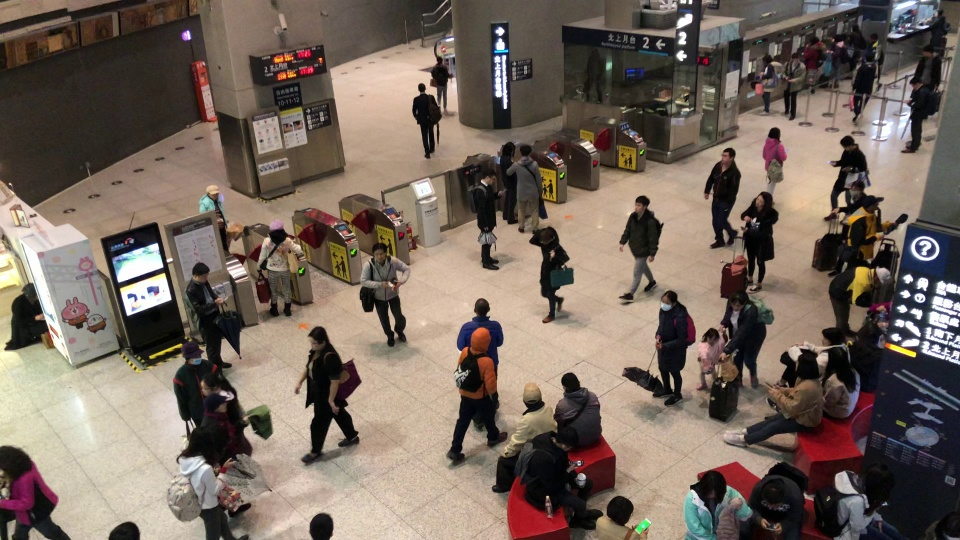person_head: (864, 463, 895, 501), (0, 445, 30, 476), (606, 494, 634, 524), (188, 426, 212, 459), (307, 511, 334, 540), (180, 336, 205, 366), (795, 353, 821, 380), (307, 325, 330, 354), (761, 480, 784, 508), (107, 521, 140, 540), (554, 426, 579, 451), (469, 326, 491, 353), (702, 472, 724, 498), (521, 381, 542, 408), (201, 374, 228, 394), (820, 326, 844, 347), (829, 349, 849, 373), (560, 371, 581, 391), (204, 394, 227, 412), (472, 297, 492, 317), (191, 261, 210, 282), (268, 217, 287, 238), (659, 290, 678, 311), (942, 517, 959, 540), (728, 291, 748, 310), (633, 194, 652, 213), (863, 194, 883, 212), (371, 242, 388, 263), (874, 266, 892, 285), (755, 191, 774, 208), (22, 282, 38, 302), (848, 180, 865, 198), (480, 167, 496, 186), (539, 227, 554, 246), (501, 140, 516, 158), (839, 135, 855, 151), (205, 183, 220, 200), (720, 148, 737, 163), (908, 75, 924, 90), (705, 327, 719, 341), (921, 43, 934, 57), (520, 143, 532, 157), (767, 127, 781, 139), (868, 32, 879, 44), (762, 54, 773, 65), (864, 51, 874, 63), (791, 52, 801, 63), (417, 82, 426, 94), (809, 35, 819, 45), (934, 8, 944, 18), (832, 34, 842, 43), (436, 55, 445, 64), (851, 23, 859, 33)
person_vbox: (720, 352, 824, 447), (513, 425, 605, 532), (165, 425, 249, 540), (292, 325, 360, 466), (443, 326, 508, 463), (490, 381, 558, 494), (812, 463, 904, 539), (764, 348, 862, 419), (198, 394, 254, 518), (0, 445, 72, 540), (455, 297, 504, 430), (172, 335, 239, 427), (716, 290, 776, 390), (359, 242, 411, 348), (184, 261, 232, 373), (254, 215, 306, 318), (652, 290, 697, 406), (617, 194, 664, 304), (682, 470, 753, 540), (748, 461, 809, 540), (464, 166, 508, 273), (776, 327, 850, 389), (529, 224, 571, 325), (828, 265, 894, 329), (739, 191, 779, 295), (702, 147, 743, 248), (823, 133, 868, 222), (825, 180, 866, 277), (553, 371, 603, 450), (505, 142, 544, 232), (846, 195, 896, 265), (3, 282, 46, 352), (900, 73, 936, 156), (910, 42, 943, 119), (594, 494, 649, 539), (411, 81, 442, 160), (198, 182, 229, 251), (762, 126, 788, 204), (851, 51, 877, 127), (695, 327, 725, 392), (781, 51, 806, 122), (756, 54, 783, 117), (499, 140, 519, 224), (430, 56, 455, 117), (859, 30, 884, 90), (802, 34, 826, 96), (826, 33, 850, 91), (843, 22, 866, 80), (924, 9, 952, 37)
